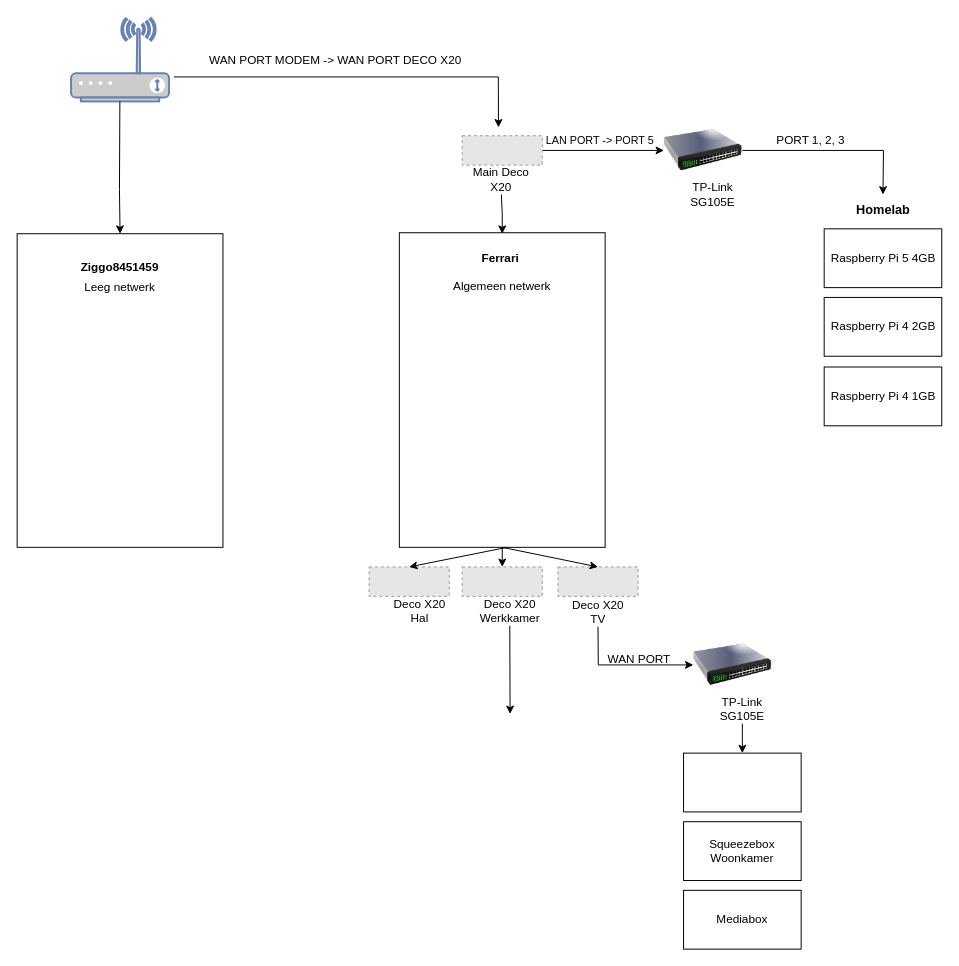
Some shapes in this 959 by 966 pixel diagram are drawn without their labels. Grey dashed boxes stand in for pictures. The box of each missing label's shape, as (x1, y1, x2, y2) in pixels:
Modem: (70, 17, 170, 102)
Televisie: (683, 752, 801, 812)
